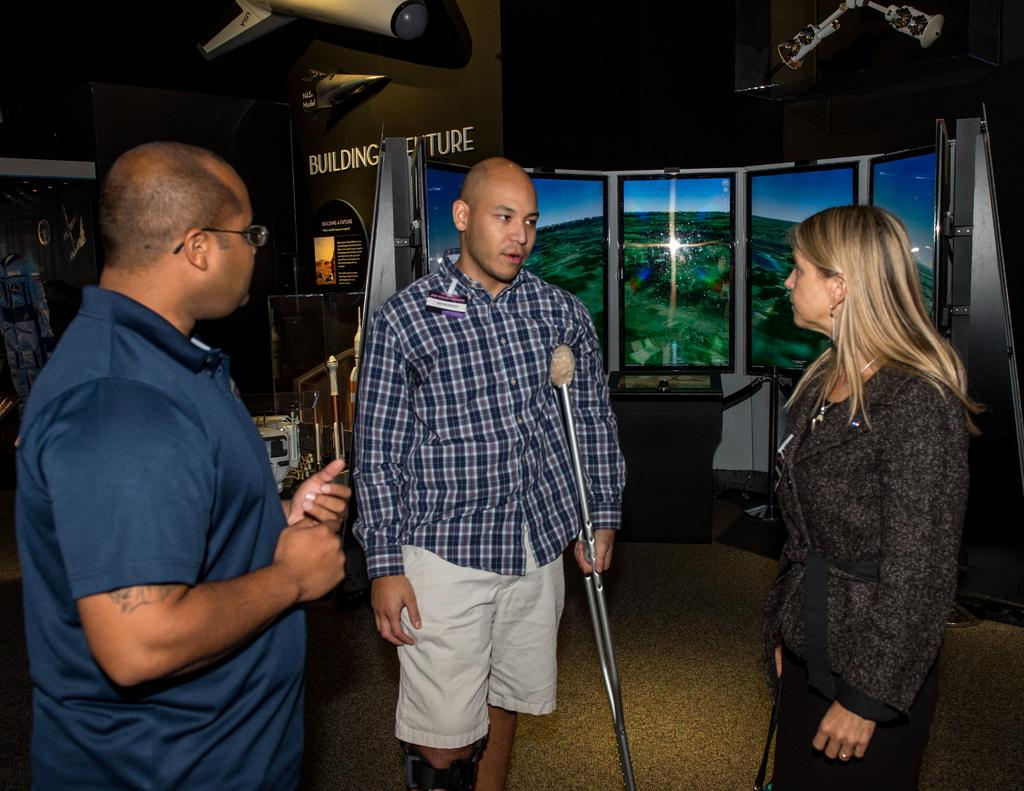crutches: (344, 144, 650, 791)
